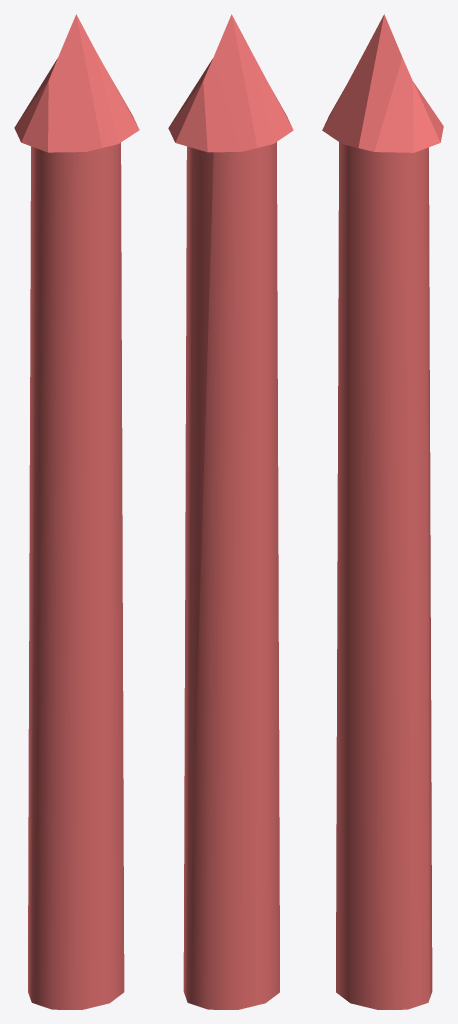
File: Blowdart.FBX
3 renders of one model, left to right at view 1: azimuth 30°, elevation 25°; view 2: azimuth 210°, elevation 25°; view 3: azimuth 330°, elevation 25°, orthographic.
Visible parts, largest first — view 1: Blowdart; view 2: Blowdart; view 3: Blowdart.
Part boxes in pixels (left/top/right/bottom): Blowdart: left=14, top=14, right=139, bottom=1009; Blowdart: left=168, top=14, right=293, bottom=1009; Blowdart: left=322, top=14, right=443, bottom=1009.
Bounding box in the file's own units: 0.9228 × 7.73 × 0.7395.
